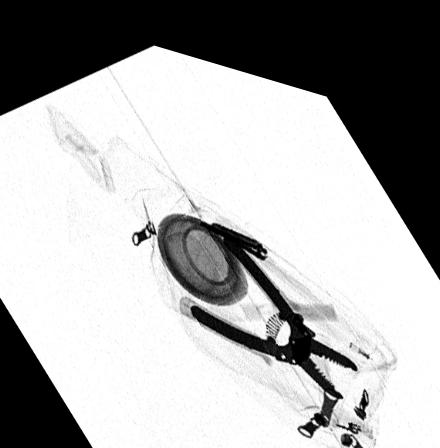Pliers: (187, 217, 358, 379)
